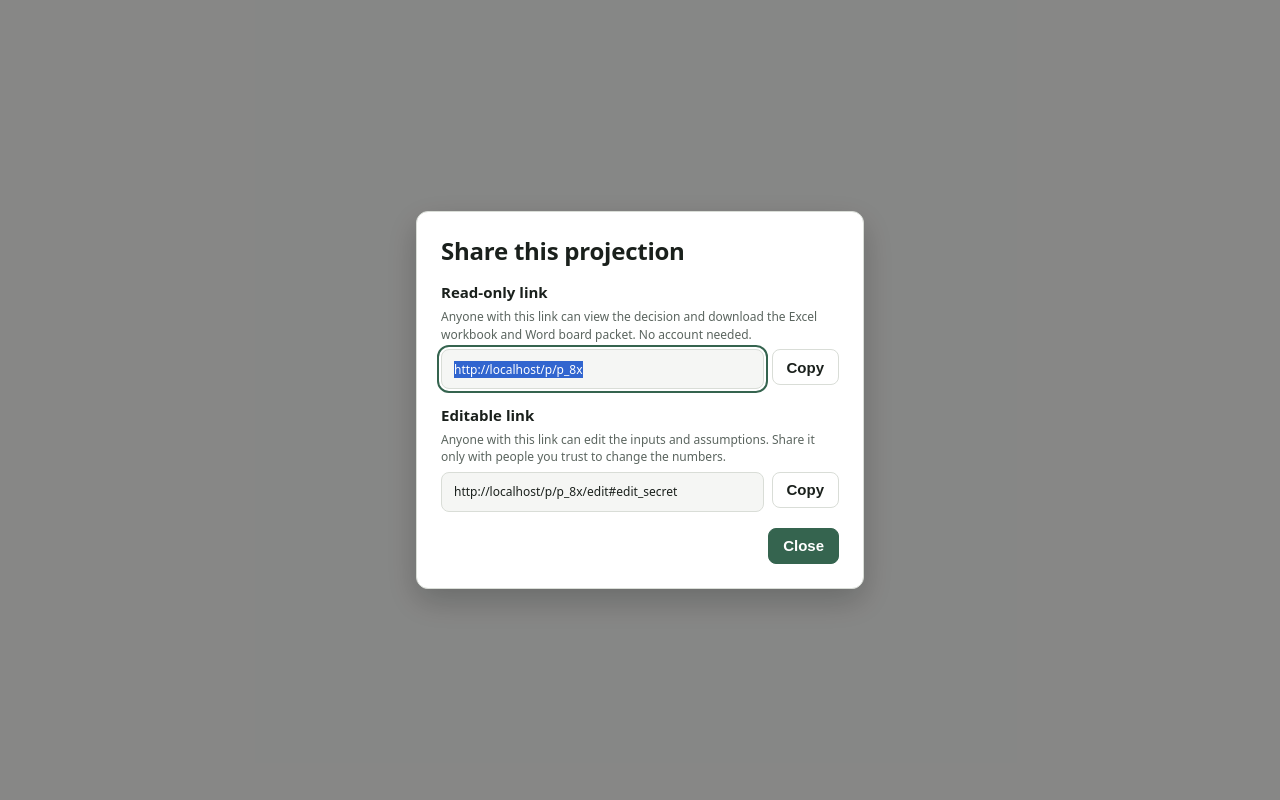
Test: ShareModal — copy honesty (rejects don't lie) › does not toast on a rejected read-only copy; shows a manual-copy hint instead
Click the button with test id "share-copy-readonly". click: (805, 367)
box: x1=772 y1=349 x2=839 y2=385
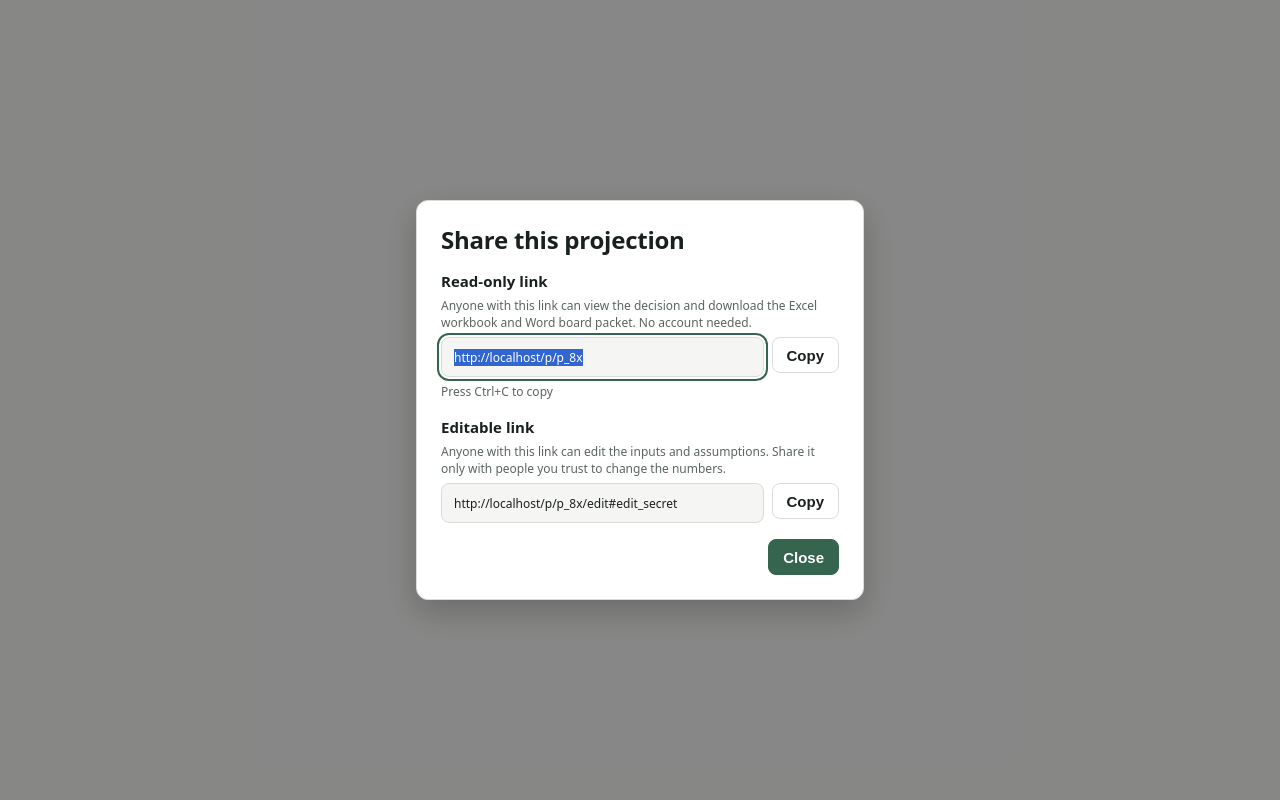
Expected: the text with test id "share-copy-readonly-manual" reads "Press Ctrl+C to copy", x1=441 y1=383 x2=553 y2=400
